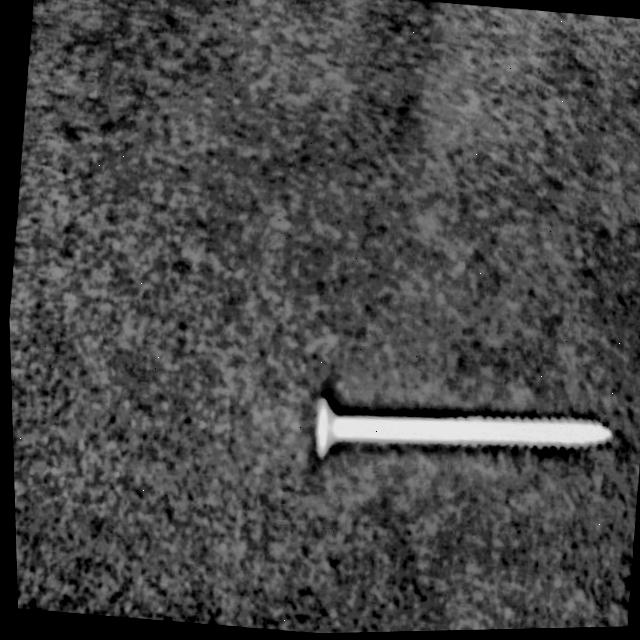Wood screw: (307, 387, 611, 488)
